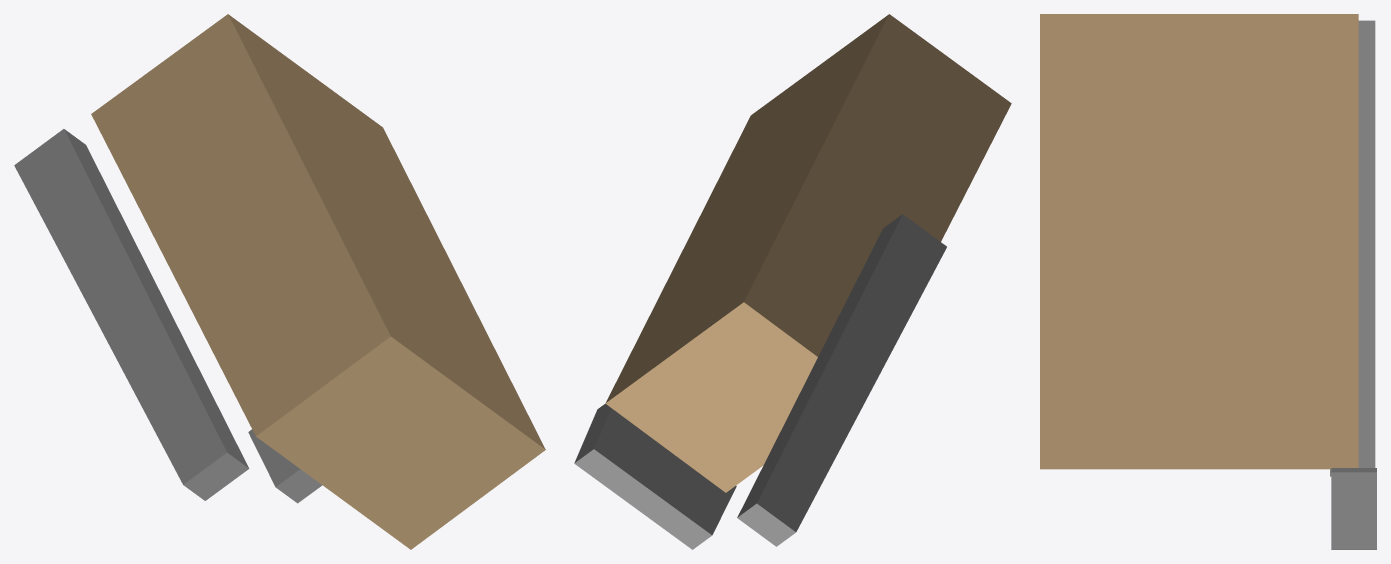
3 renders of one model, left to right at view 1: azimuth 30°, elevation 25°; view 2: azimuth 150°, elevation 25°; view 3: azimuth 270°, elevation 25°, orthographic. The views are drawn at different scales.
Parts seen in each view (by area): view 1: 0_1_0_2_0_2_1_0_3; view 2: 0_1_0_2_0_2_1_0_3; view 3: 0_1_0_2_0_2_1_0_3.
Boxes of the visible parts, box(x1,y1,x2,y2) form: 0_1_0_2_0_2_1_0_3: box(14, 14, 545, 549); 0_1_0_2_0_2_1_0_3: box(574, 14, 1011, 549); 0_1_0_2_0_2_1_0_3: box(1040, 14, 1376, 549).
Size of the model in its own units: 30.87 by 36.89 by 22.2.
